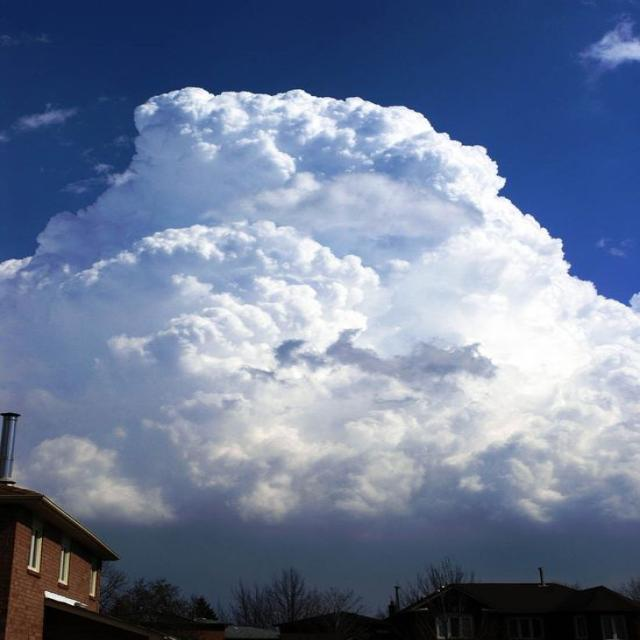cumulonimbus: (7, 61, 640, 594)
